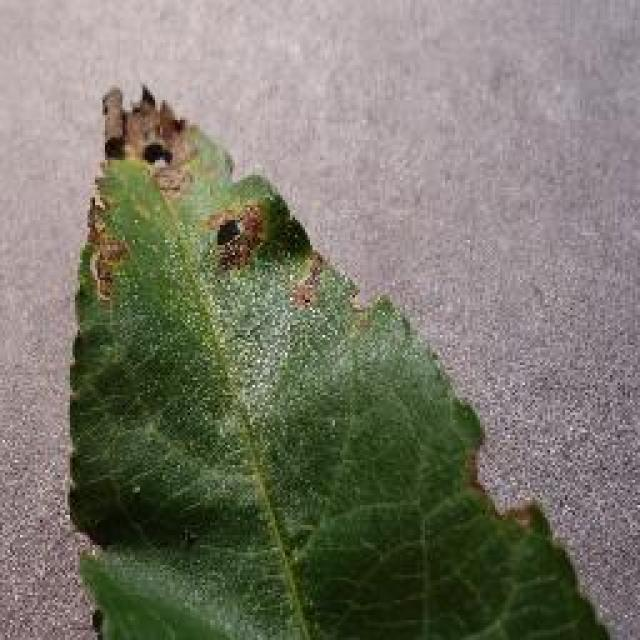Peach_Bacterial_Spot: (98, 101, 350, 352)
